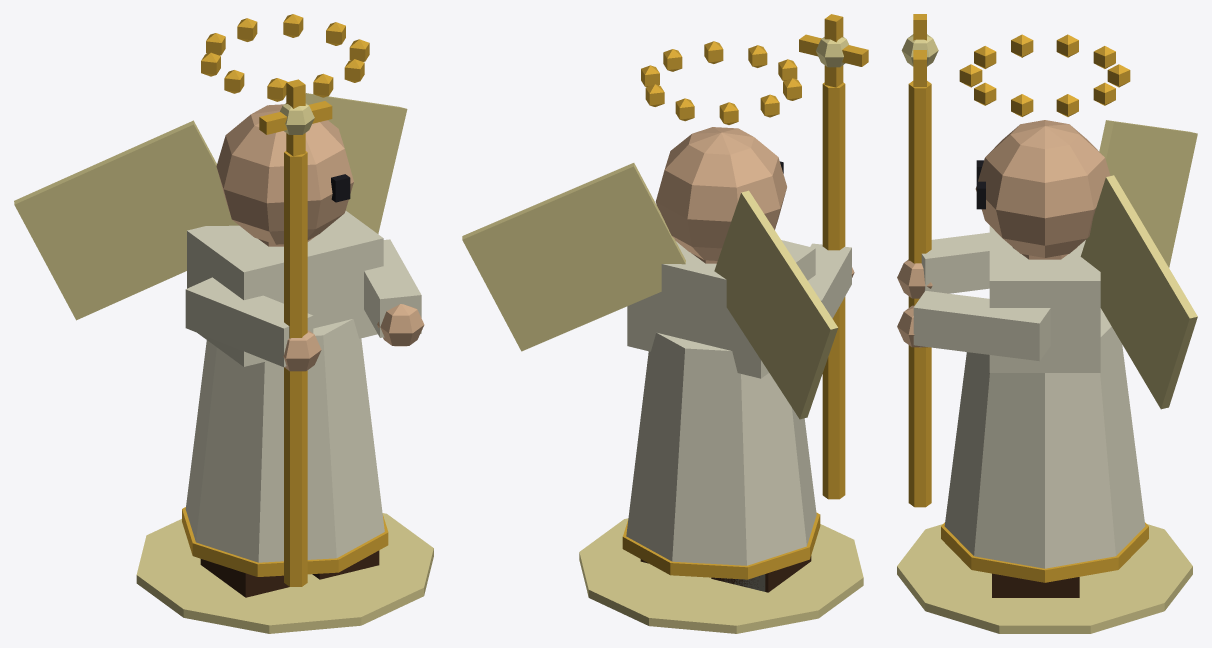
File: u_saint.fbx
3 views of the same model, side by side, from view 1: azimuth 30°, elevation 25°; view 2: azimuth 150°, elevation 25°; view 3: azimuth 270°, elevation 25° (orthographic). The views are drawn at different scales.
Parts seen in each view (by area): view 1: u_saint_Body, u_saint_LegR; view 2: u_saint_Body, u_saint_LegR; view 3: u_saint_Body, u_saint_LegL.
Part boxes in pixels (x1,y1,x2,y2): u_saint_Body: [14, 14, 433, 633]; u_saint_LegR: [200, 559, 289, 597]; u_saint_Body: [462, 14, 868, 633]; u_saint_LegR: [711, 556, 811, 592]; u_saint_Body: [897, 14, 1197, 633]; u_saint_LegL: [992, 573, 1079, 597].
Bounding box in the file's own units: 0.956 × 1.28 × 0.6507.
